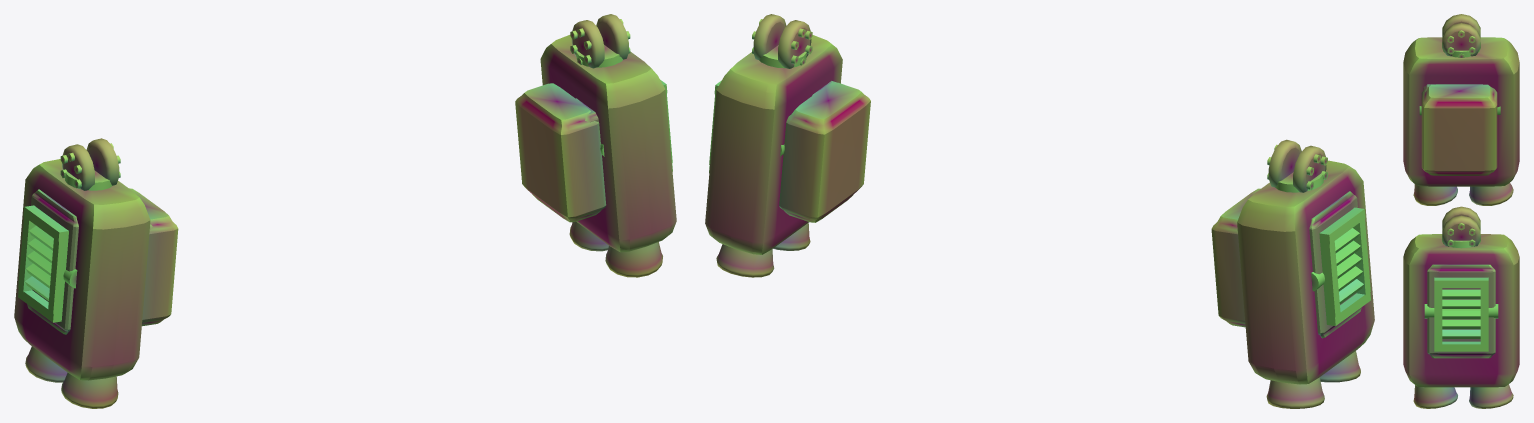
File: llm_gen_leg_thrusters_078_a95d89.glb
3 renders of one model, left to right at view 1: azimuth 30°, elevation 25°; view 2: azimuth 150°, elevation 25°; view 3: azimuth 270°, elevation 25°, orthographic. The views are drawn at different scales.
Parts seen in each view (by area): view 1: flare_cowling_main_0_cobalt_anodized_l, flare_cowling_main_0_cobalt_anodized_r, adapter_calf_clamp_r, adapter_calf_clamp_l, adapter_sub_flare_louver_gold_3_dark_l, adapter_sub_louver_frame_dark_1_adapter_dark_l, servo_5_servo_accent_r, servo_5_servo_accent_l, flare_bell_fwd_6_vernier_bell_vernier_l, flare_bell_fwd_6_vernier_bell_vernier_r, flare_louver_gold_3_gold_l, flare_bell_aft_7_vernier_bell_vernier_l (+1 smaller); view 2: flare_cowling_main_0_cobalt_anodized_l, flare_cowling_main_0_cobalt_anodized_r, adapter_calf_clamp_r, adapter_sub_flare_louver_gold_3_dark_l, adapter_calf_clamp_l, adapter_sub_louver_frame_dark_1_adapter_dark_l, servo_5_servo_accent_r, servo_5_servo_accent_l, flare_louver_gold_3_gold_l, flare_bell_aft_7_vernier_bell_vernier_l, flare_bell_aft_7_vernier_bell_vernier_r, flare_bell_fwd_6_vernier_bell_vernier_l; view 3: flare_cowling_main_0_cobalt_anodized_r, flare_cowling_main_0_cobalt_anodized_l, adapter_calf_clamp_l, adapter_sub_louver_frame_dark_1_adapter_dark_r, adapter_sub_flare_louver_gold_3_dark_r, flare_louver_gold_3_gold_r, servo_5_servo_accent_l, servo_5_servo_accent_r, flare_bell_aft_7_vernier_bell_vernier_r, flare_bell_fwd_6_vernier_bell_vernier_r, flare_bell_aft_7_vernier_bell_vernier_l, flare_bell_fwd_6_vernier_bell_vernier_l (+5 smaller).
Part boxes in pixels (x1=…): flare_cowling_main_0_cobalt_anodized_l: x1=14, y1=159, x2=150, y2=380; flare_cowling_main_0_cobalt_anodized_r: x1=540, y1=35, x2=676, y2=252; adapter_calf_clamp_r: x1=515, y1=83, x2=606, y2=222; adapter_calf_clamp_l: x1=129, y1=188, x2=178, y2=326; adapter_sub_flare_louver_gold_3_dark_l: x1=18, y1=205, x2=68, y2=322; adapter_sub_louver_frame_dark_1_adapter_dark_l: x1=27, y1=189, x2=78, y2=334; servo_5_servo_accent_r: x1=571, y1=14, x2=628, y2=68; servo_5_servo_accent_l: x1=62, y1=138, x2=119, y2=190; flare_bell_fwd_6_vernier_bell_vernier_l: x1=61, y1=372, x2=118, y2=408; flare_bell_fwd_6_vernier_bell_vernier_r: x1=605, y1=242, x2=662, y2=277; flare_louver_gold_3_gold_l: x1=25, y1=225, x2=53, y2=301; flare_bell_aft_7_vernier_bell_vernier_l: x1=25, y1=346, x2=67, y2=382; flare_cowling_main_0_cobalt_anodized_l: x1=1237, y1=160, x2=1374, y2=384; flare_cowling_main_0_cobalt_anodized_r: x1=705, y1=35, x2=842, y2=254; adapter_calf_clamp_r: x1=779, y1=82, x2=870, y2=222; adapter_sub_flare_louver_gold_3_dark_l: x1=1319, y1=207, x2=1370, y2=326; adapter_calf_clamp_l: x1=1211, y1=188, x2=1260, y2=327; adapter_sub_louver_frame_dark_1_adapter_dark_l: x1=1309, y1=191, x2=1361, y2=338; servo_5_servo_accent_r: x1=753, y1=14, x2=811, y2=68; servo_5_servo_accent_l: x1=1268, y1=139, x2=1326, y2=192; flare_louver_gold_3_gold_l: x1=1334, y1=228, x2=1363, y2=304; flare_bell_aft_7_vernier_bell_vernier_l: x1=1266, y1=377, x2=1324, y2=408; flare_bell_aft_7_vernier_bell_vernier_r: x1=716, y1=244, x2=774, y2=277; flare_bell_fwd_6_vernier_bell_vernier_l: x1=1320, y1=351, x2=1360, y2=382; flare_cowling_main_0_cobalt_anodized_r: x1=1403, y1=234, x2=1519, y2=387; flare_cowling_main_0_cobalt_anodized_l: x1=1403, y1=37, x2=1519, y2=186; adapter_calf_clamp_l: x1=1421, y1=84, x2=1497, y2=175; adapter_sub_louver_frame_dark_1_adapter_dark_r: x1=1427, y1=264, x2=1495, y2=358; adapter_sub_flare_louver_gold_3_dark_r: x1=1434, y1=277, x2=1488, y2=351; flare_louver_gold_3_gold_r: x1=1442, y1=289, x2=1480, y2=338; servo_5_servo_accent_l: x1=1442, y1=14, x2=1480, y2=56; servo_5_servo_accent_r: x1=1442, y1=206, x2=1480, y2=246; flare_bell_aft_7_vernier_bell_vernier_r: x1=1469, y1=384, x2=1513, y2=408; flare_bell_fwd_6_vernier_bell_vernier_r: x1=1413, y1=385, x2=1457, y2=408; flare_bell_aft_7_vernier_bell_vernier_l: x1=1469, y1=183, x2=1513, y2=205; flare_bell_fwd_6_vernier_bell_vernier_l: x1=1413, y1=184, x2=1457, y2=205.
Size of the model in its own units: 80.8 by 29.72 by 16.92.
